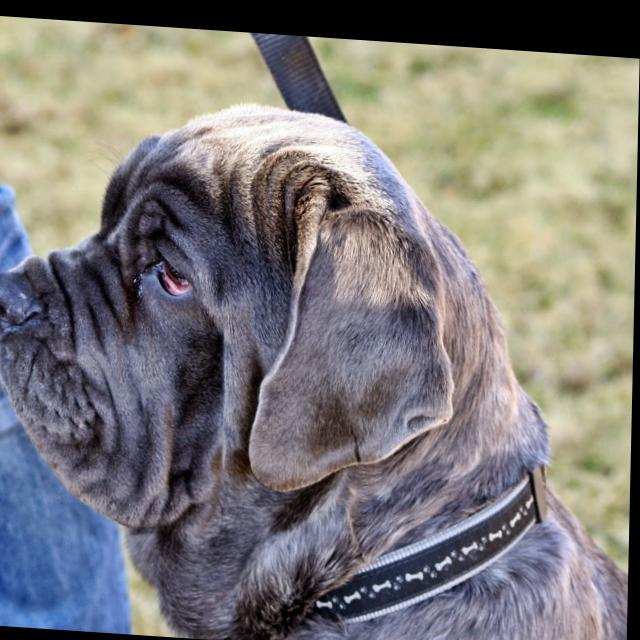mastino_napoletano: (1, 85, 640, 640)
